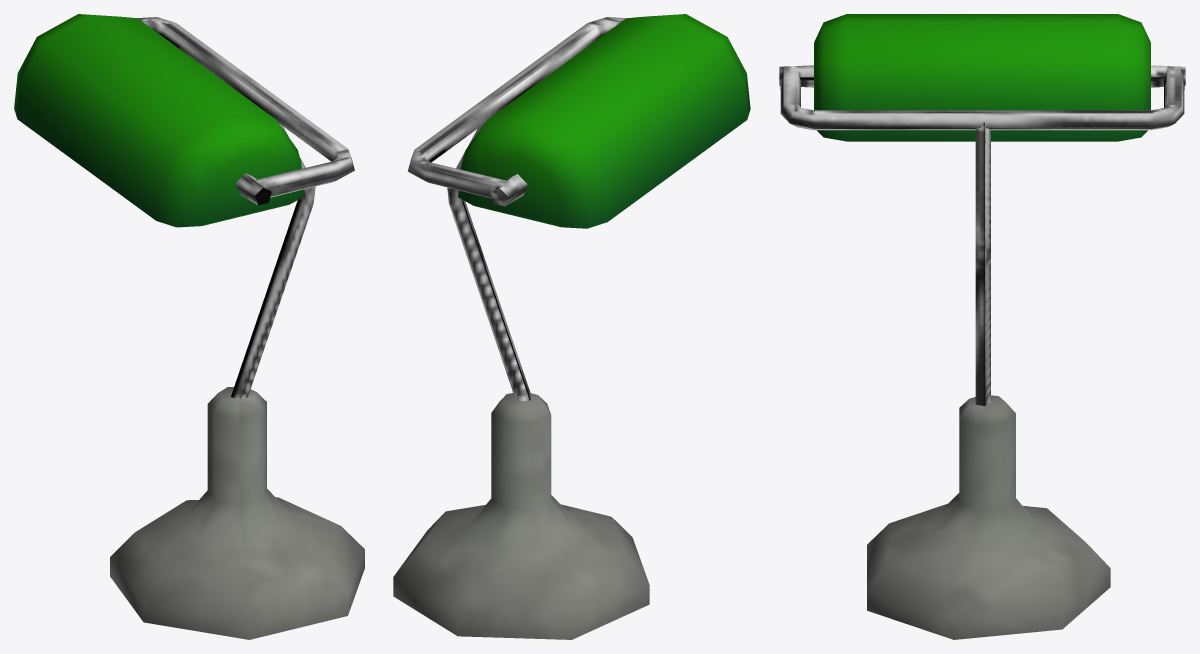
Rendered from Lamp_03-col.glb.
The picture shows the model from 3 angles, left to right: view 1: azimuth 30°, elevation 25°; view 2: azimuth 150°, elevation 25°; view 3: azimuth 270°, elevation 25°; orthographic projection. The views are drawn at different scales.
Visible parts, largest first — view 1: Lamp_03-col; view 2: Lamp_03-col; view 3: Lamp_03-col.
Part boxes in pixels (<box>): Lamp_03-col: <box>14,14,364,639</box>; Lamp_03-col: <box>393,14,750,639</box>; Lamp_03-col: <box>779,14,1185,639</box>.
Size of the model in its own units: 0.3022 by 0.5899 by 0.4126.
1 material, 1 textured.
